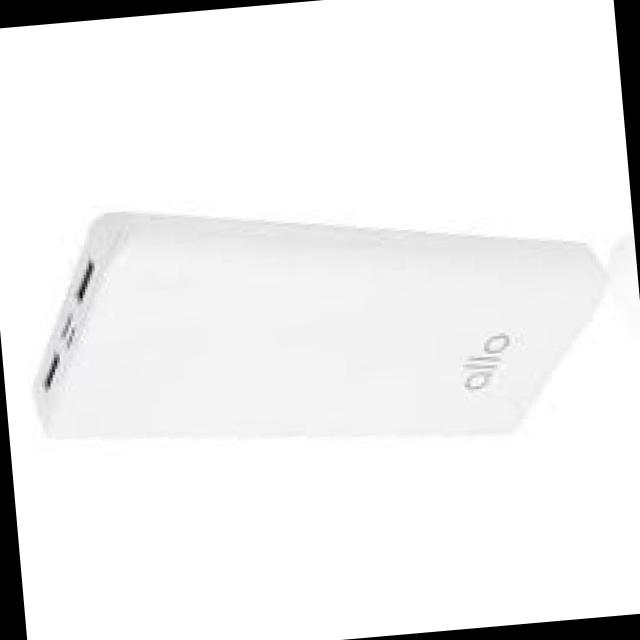portable-charger: (17, 164, 618, 474)
